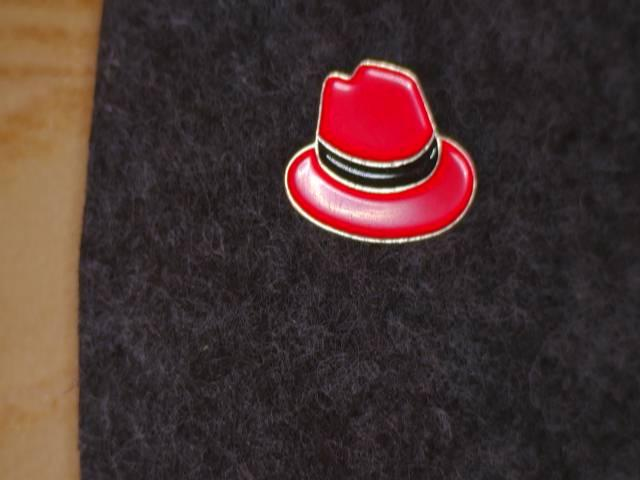Red-Hat: (251, 43, 498, 266)
